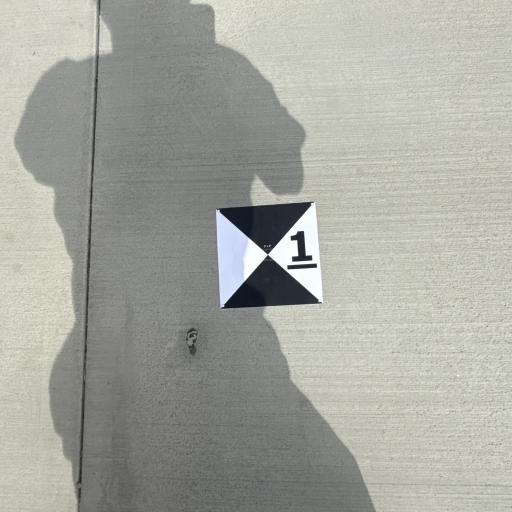target1: (212, 200, 328, 312)
